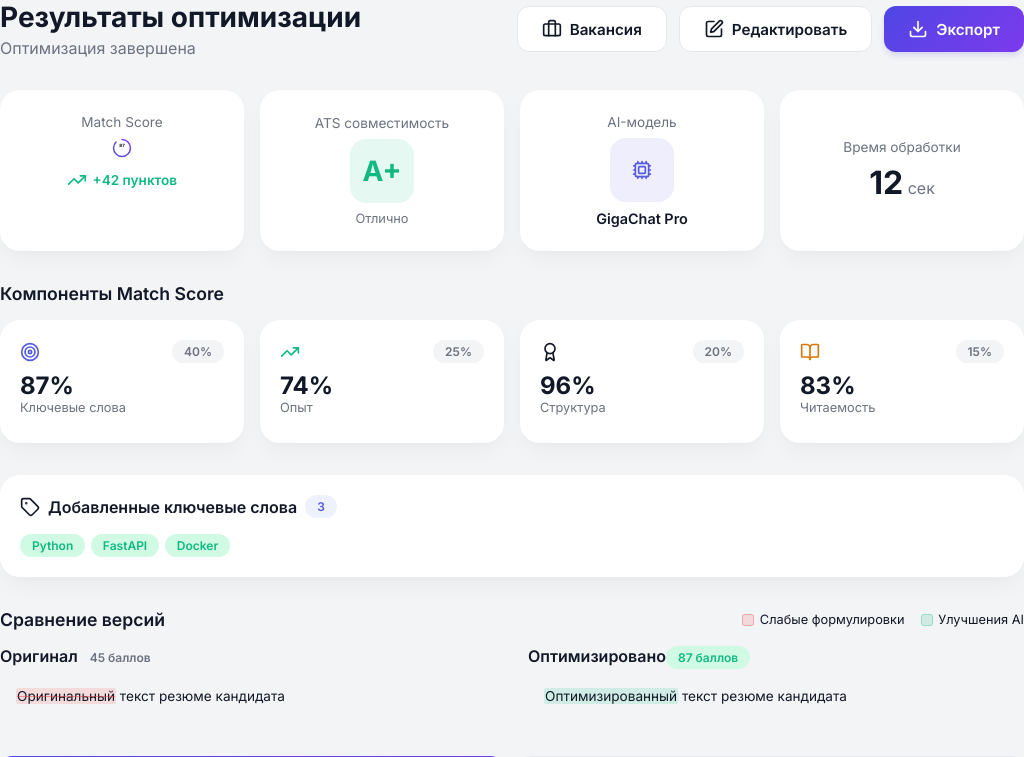
Test: ResultsPage vacancy modal › opens modal and shows vacancy title
Click the button "Вакансия".
click(592, 29)  # box [517,6,667,52]
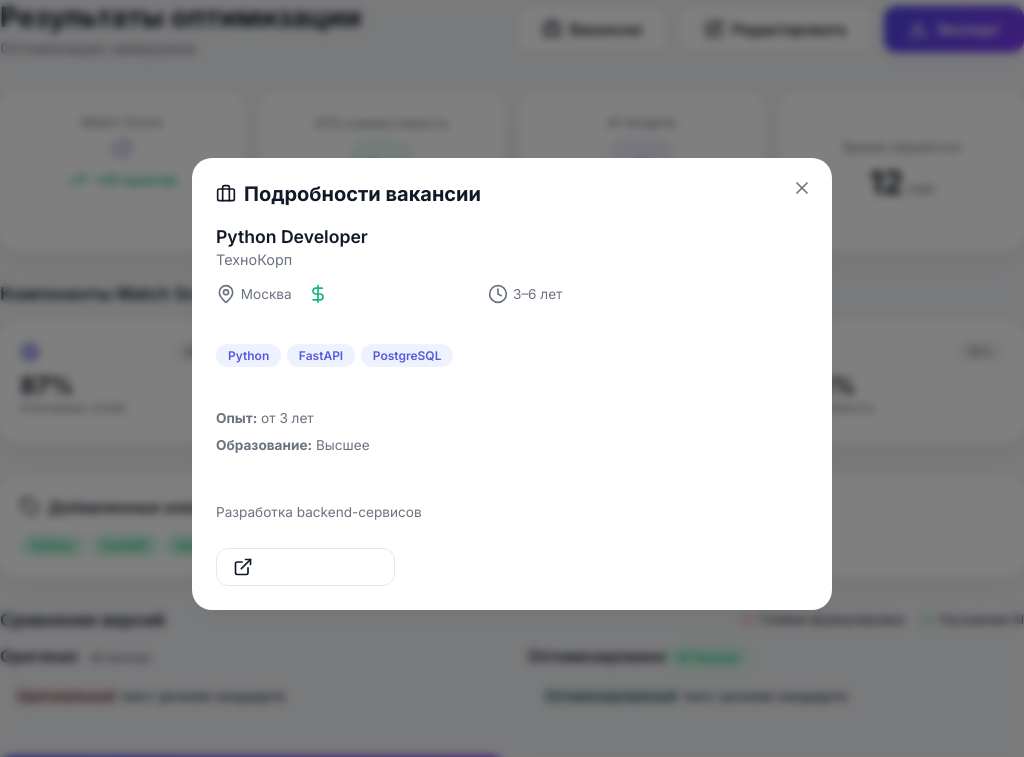
Check: the heading "Подробности вакансии" is shown, box [216,182,481,206]
Check: the heading "Python Developer" is shown, box [216,226,368,247]
